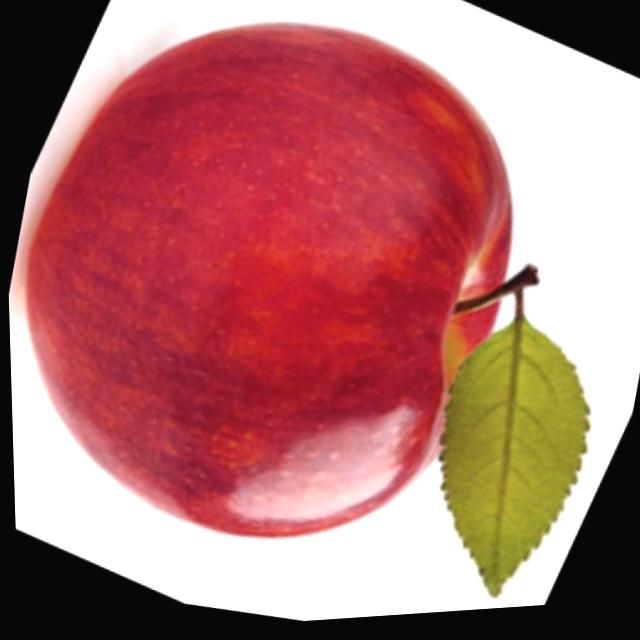organik: (0, 0, 583, 615)
